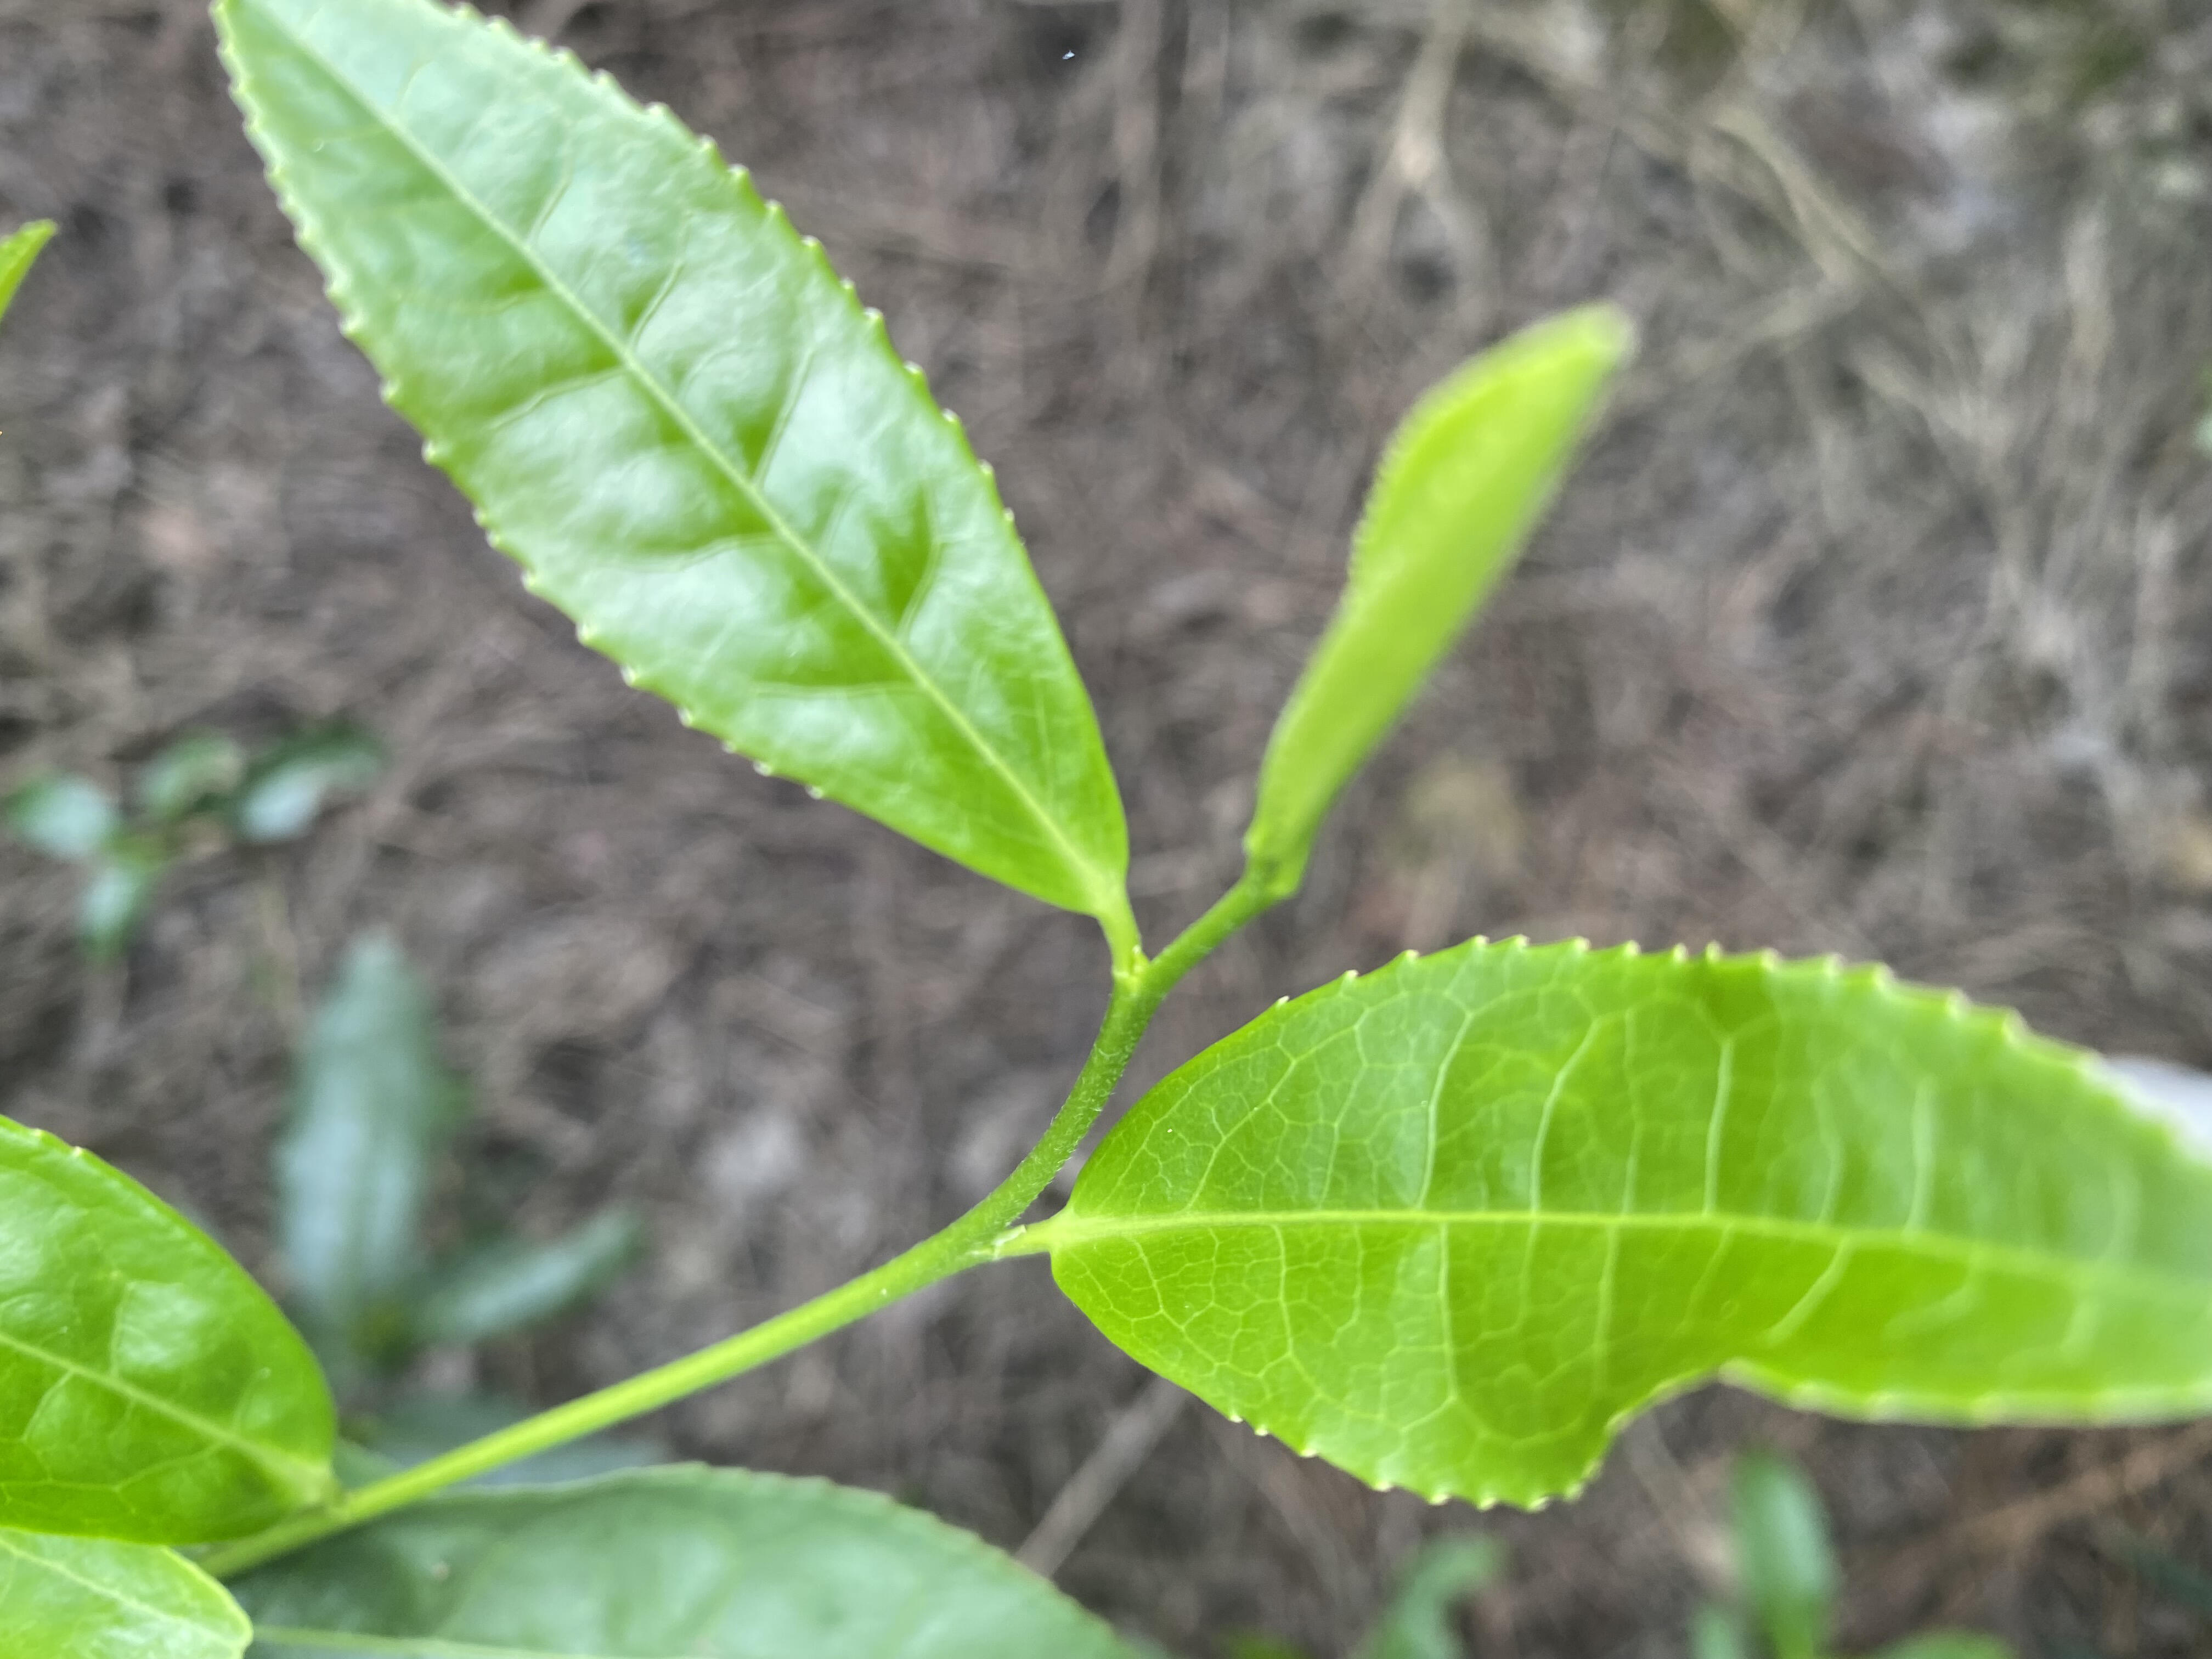healthy: (206, 3, 1130, 915), (1035, 931, 2209, 1509)
